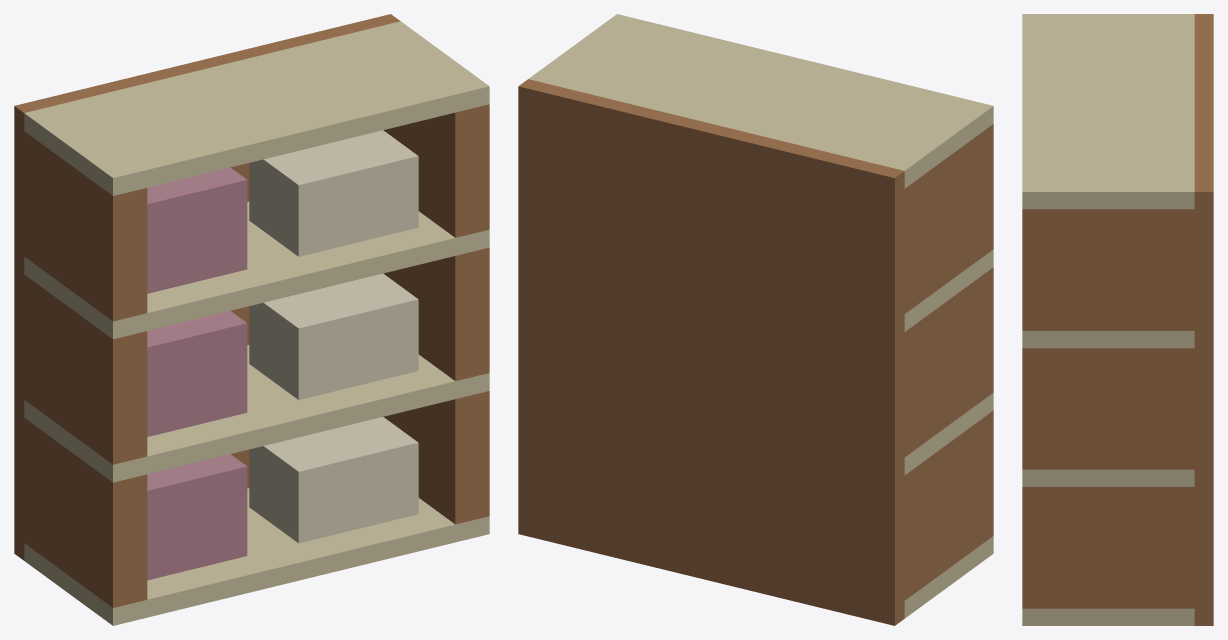
File: fashion-03.glb
3 renders of one model, left to right at view 1: azimuth 30°, elevation 25°; view 2: azimuth 150°, elevation 25°; view 3: azimuth 270°, elevation 25°, orthographic. The views are drawn at different scales.
Parts seen in each view (by area): view 1: Clothing rack; view 2: Clothing rack; view 3: Clothing rack.
Boxes of the visible parts, <box> form: Clothing rack: <box>14,14,489,625</box>; Clothing rack: <box>518,14,993,625</box>; Clothing rack: <box>1022,14,1213,625</box>.
Size of the model in its own units: 1.76 by 2 by 0.8.
